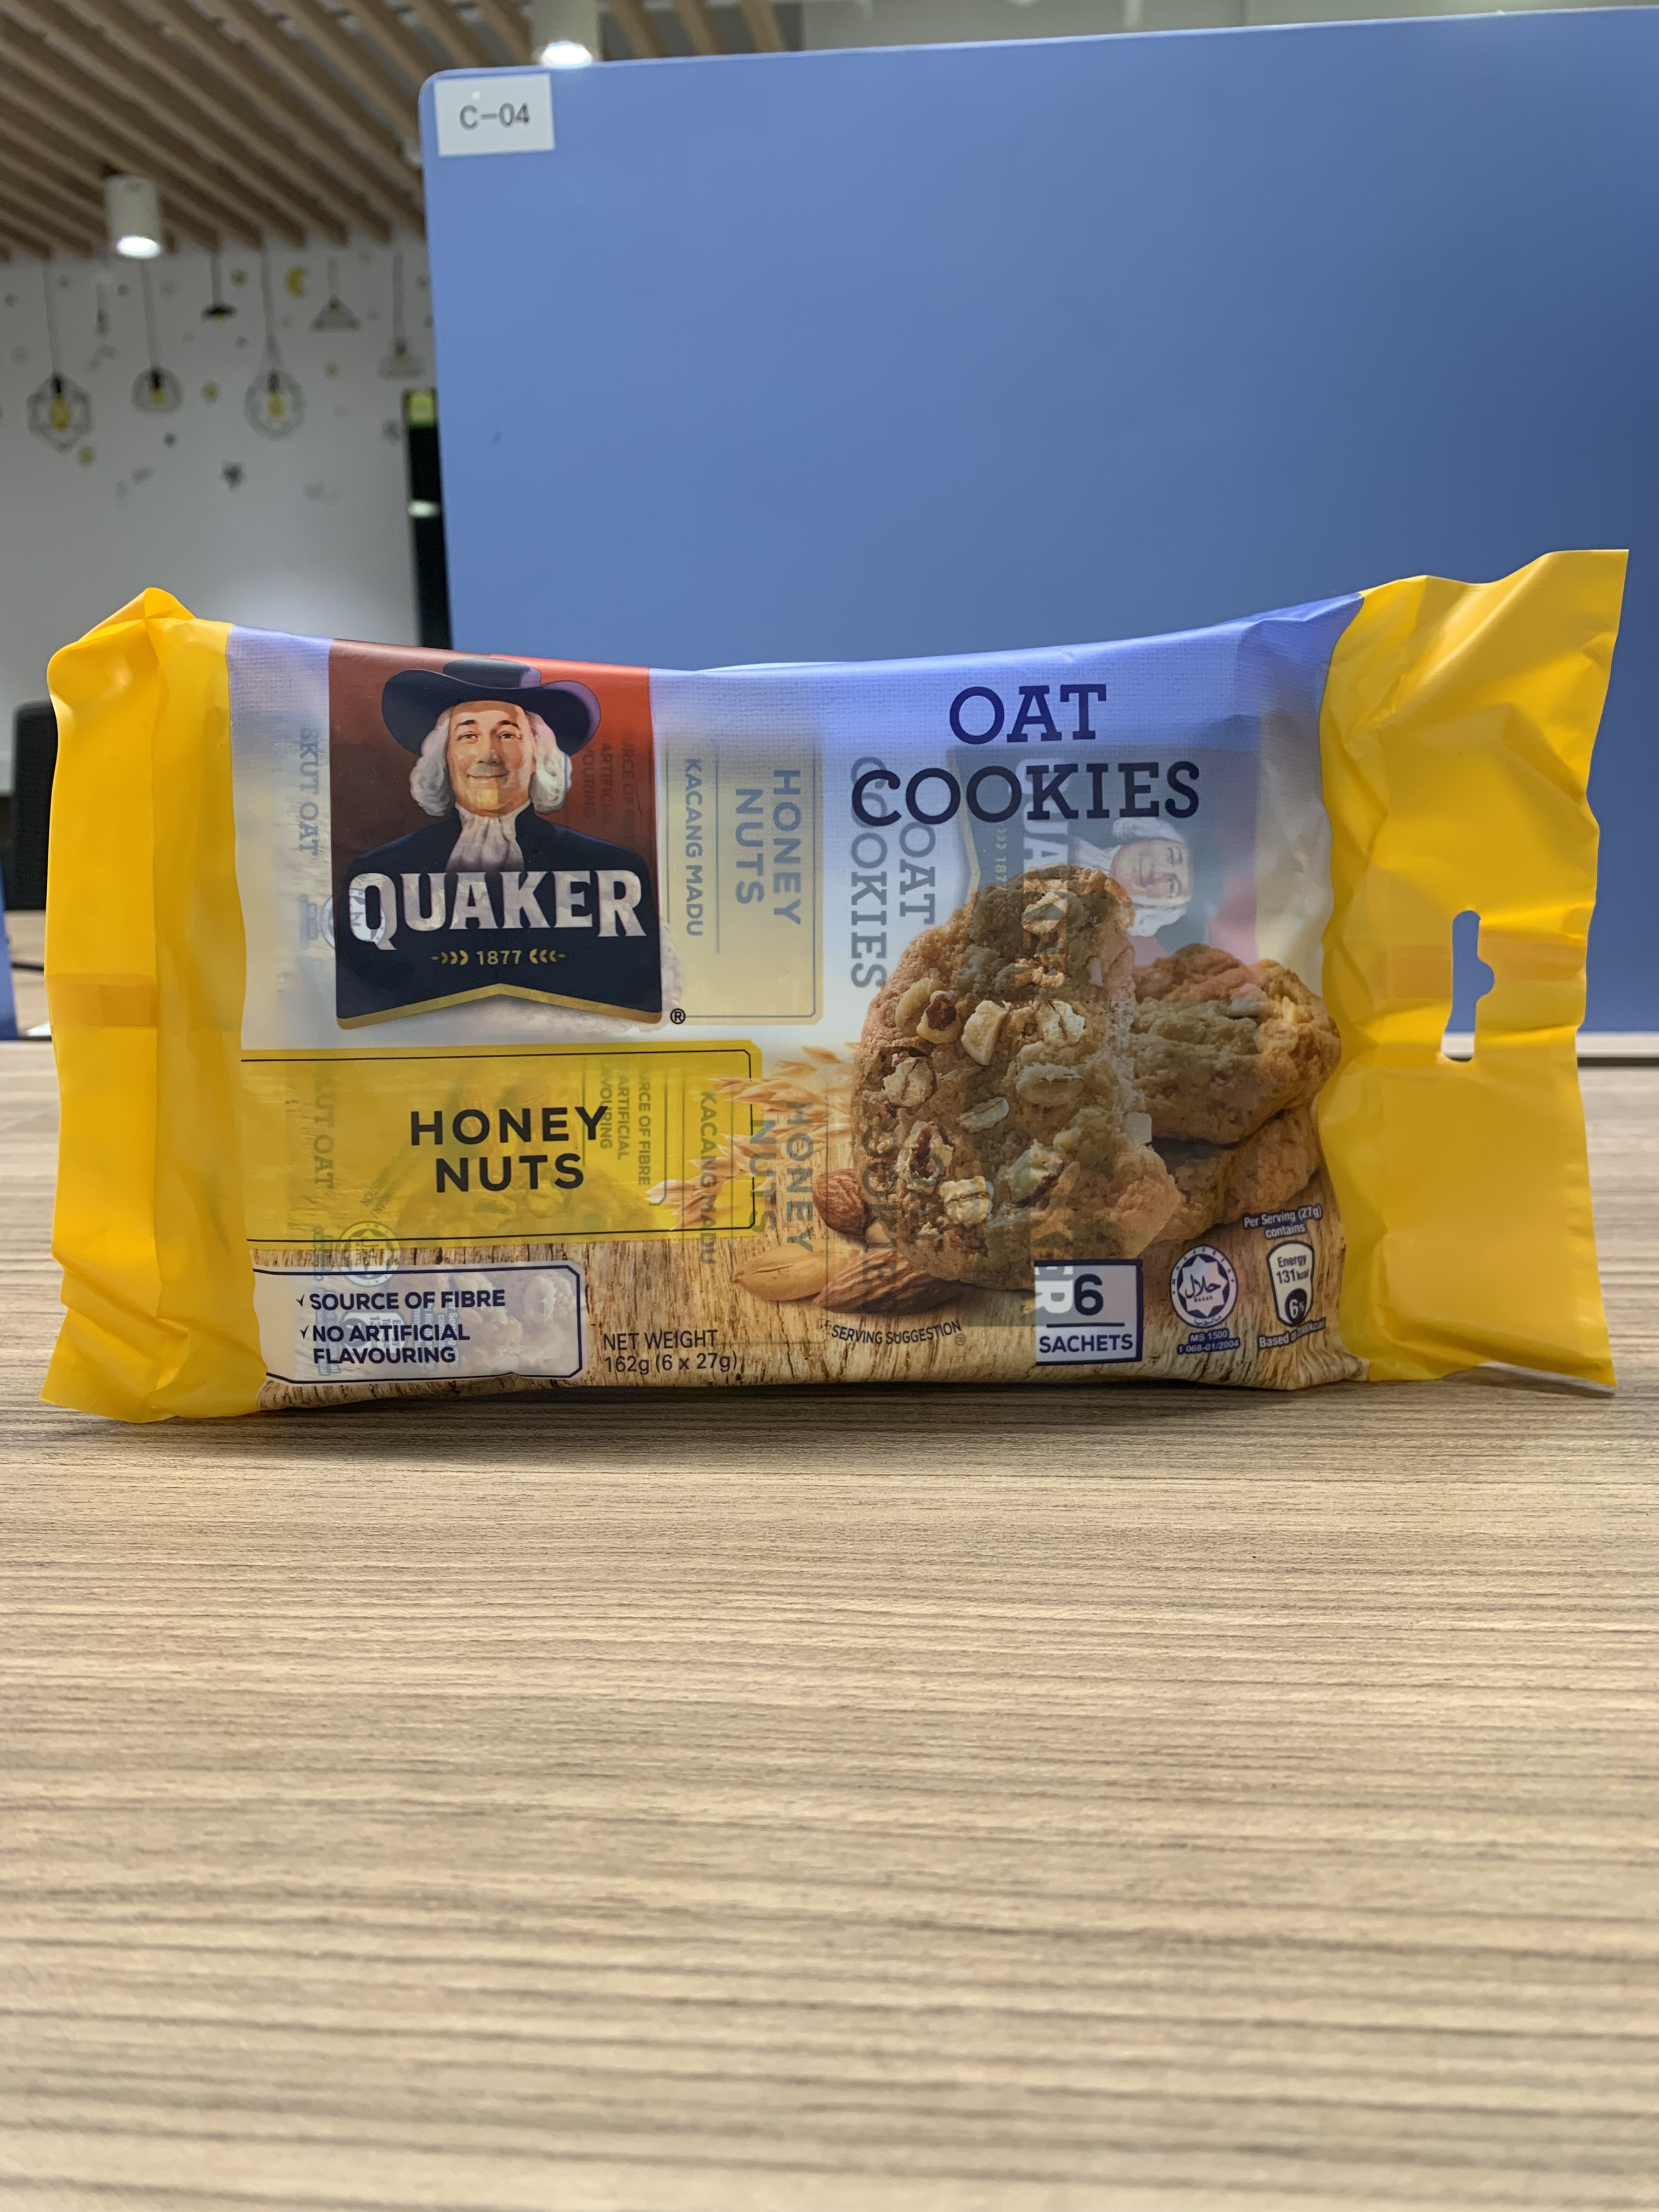cookies: (28, 517, 1643, 1447)
